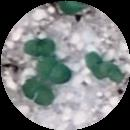Basil: (24, 78, 55, 109), (37, 57, 66, 84), (30, 36, 61, 54), (86, 51, 104, 77), (104, 61, 126, 80)
